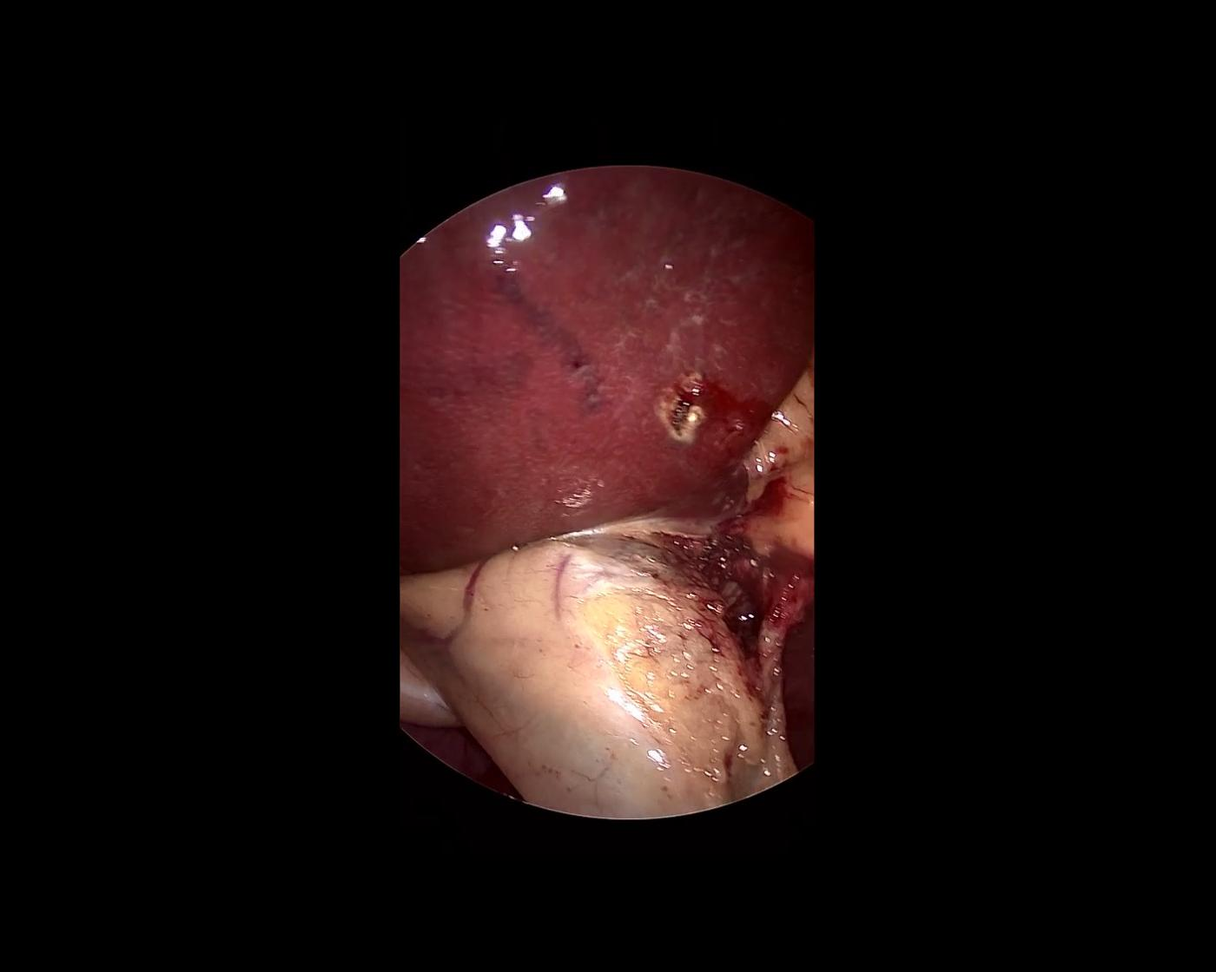Gallbladder: (365, 487, 800, 877)
Liver: (399, 166, 818, 572)
